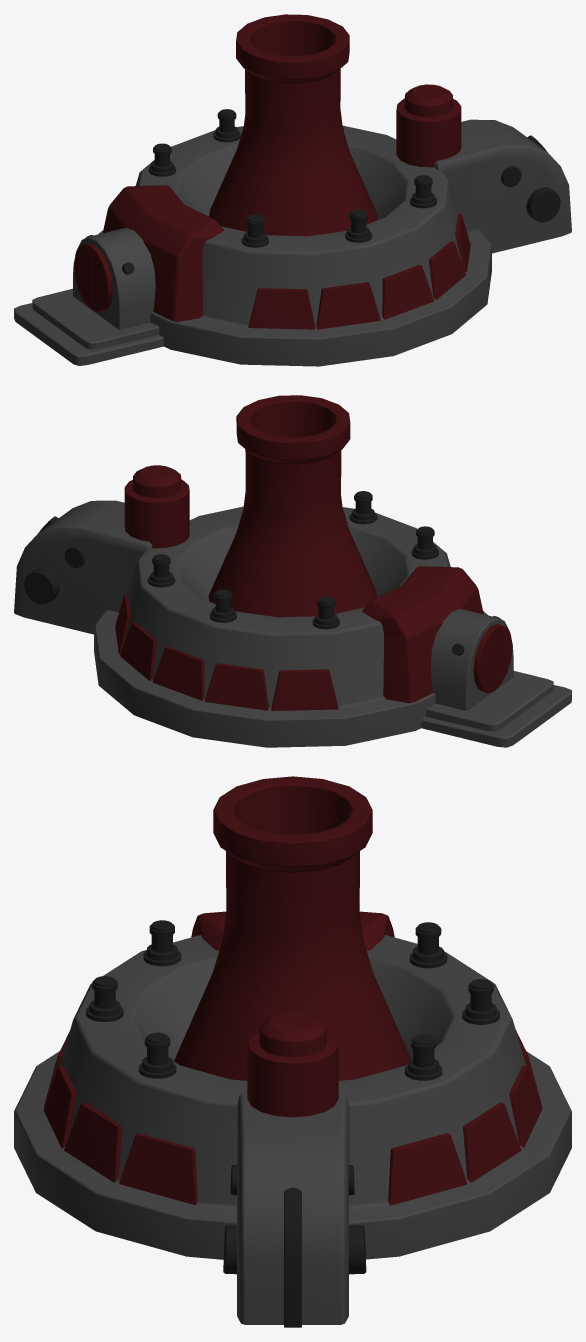
Rendered from colony_Reactor.glb.
3 views of the same model, one above another, from view 1: azimuth 30°, elevation 25°; view 2: azimuth 150°, elevation 25°; view 3: azimuth 270°, elevation 25° (orthographic). The views are drawn at different scales.
Visible parts, largest first — view 1: Reactor; view 2: Reactor; view 3: Reactor.
Part boxes in pixels (box(x1,y1,x2,y2)): Reactor: box(14, 14, 571, 366); Reactor: box(14, 395, 571, 747); Reactor: box(14, 776, 571, 1327).
Bounding box in the file's own units: 1935 × 879 × 1313.
Materials: 1 (1 with a texture image).
